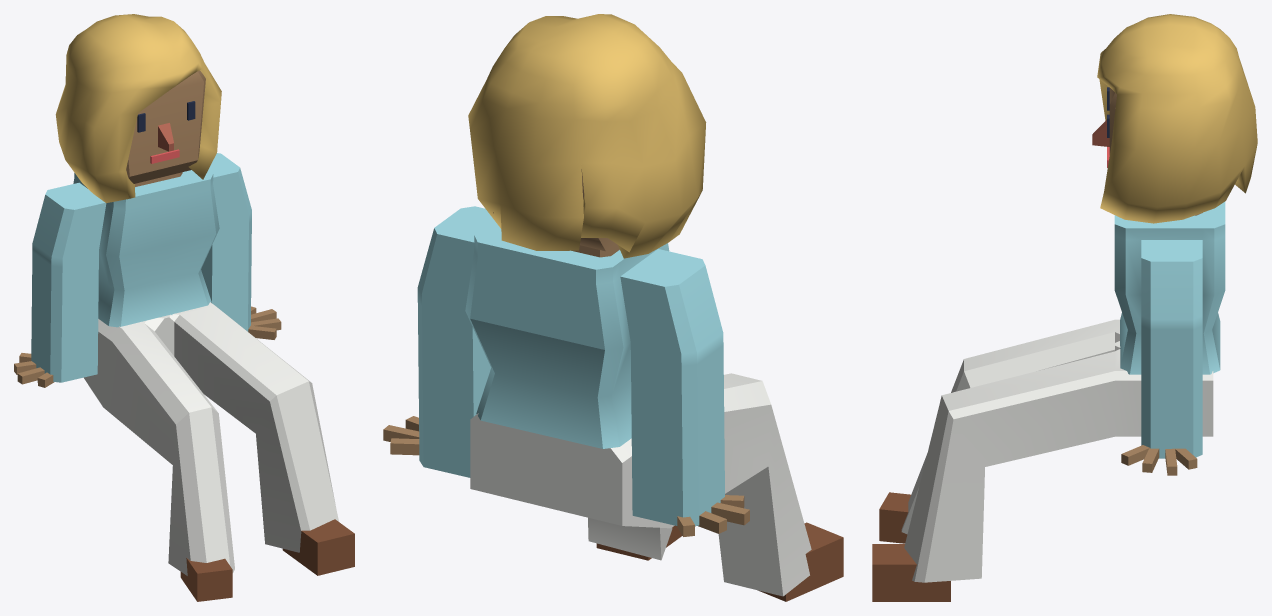
Rendered from mama.fbx.
The picture shows the model from 3 angles, left to right: view 1: azimuth 30°, elevation 25°; view 2: azimuth 150°, elevation 25°; view 3: azimuth 270°, elevation 25°; orthographic projection. The views are drawn at different scales.
Parts seen in each view (by area): view 1: pCube26, pCube25, pCube24, pCube21, pCube31, pCube32, group7; view 2: pCube25, pCube24, pCube26, pCube32, group7; view 3: pCube26, pCube24, pCube25, pCube31, group7, pCube32.
Part boxes in pixels (x1,y1,x2,y2): pCube26: (84,302,338,575); pCube25: (31,153,251,382); pCube24: (55,14,221,203); pCube21: (126,70,205,183); pCube31: (282,519,354,575); pCube32: (180,558,232,601); group7: (248,306,281,339); pCube25: (417,206,724,525); pCube24: (468,14,706,258); pCube26: (470,373,811,596); pCube32: (758,522,843,601); group7: (383,416,419,455); pCube26: (901,319,1213,582); pCube24: (1097,14,1257,223); pCube25: (1114,201,1225,458); pCube31: (872,544,950,601); group7: (1121,445,1197,475); pCube32: (879,492,910,543).
Size of the model in its own units: 0.1574 by 0.2773 by 0.1815.
